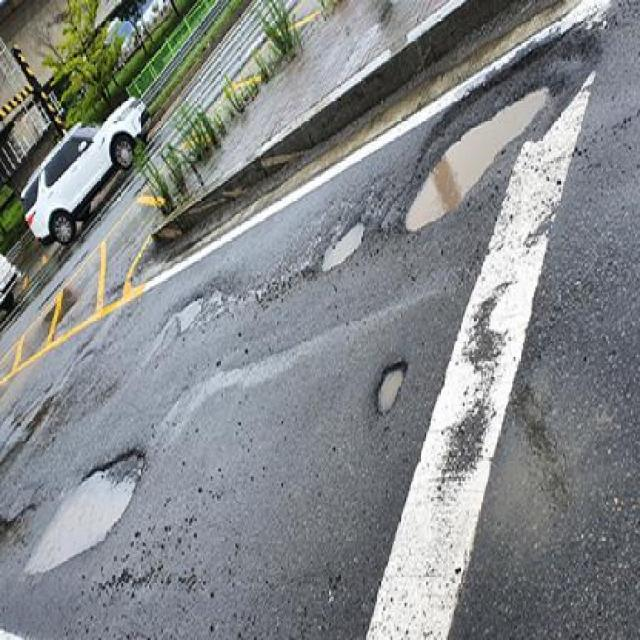Pothole: (398, 69, 568, 242), (16, 442, 164, 575), (310, 210, 376, 282), (151, 287, 207, 350), (372, 351, 410, 418)
